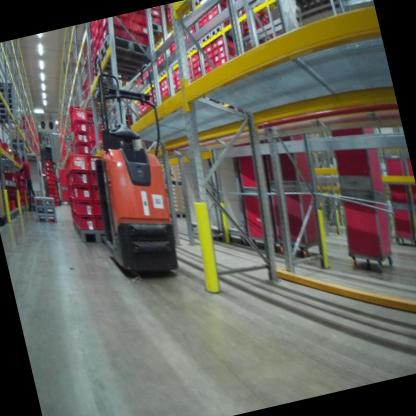pallet: (68, 204, 123, 252), (97, 29, 154, 72), (93, 42, 146, 86), (208, 21, 237, 47), (285, 0, 317, 19), (32, 189, 57, 211), (35, 208, 61, 229), (144, 17, 168, 39), (0, 108, 21, 130), (34, 202, 58, 221), (305, 0, 340, 13), (181, 42, 201, 58), (0, 104, 17, 119), (0, 97, 17, 112), (0, 79, 17, 94), (4, 209, 19, 224), (0, 88, 15, 101), (0, 84, 14, 97), (191, 0, 206, 12), (198, 31, 211, 44), (0, 94, 15, 105)
pallet_truck: (66, 62, 194, 284)
small_load_carrier: (99, 20, 132, 46), (67, 163, 94, 194), (71, 205, 97, 234), (62, 148, 92, 173), (71, 192, 95, 221), (101, 14, 132, 36), (65, 178, 92, 200), (68, 102, 89, 126), (85, 149, 107, 169), (70, 115, 89, 136), (73, 138, 92, 157), (86, 168, 102, 189), (72, 130, 90, 146), (90, 187, 105, 205), (94, 202, 108, 221), (94, 217, 108, 233), (0, 133, 7, 150)
